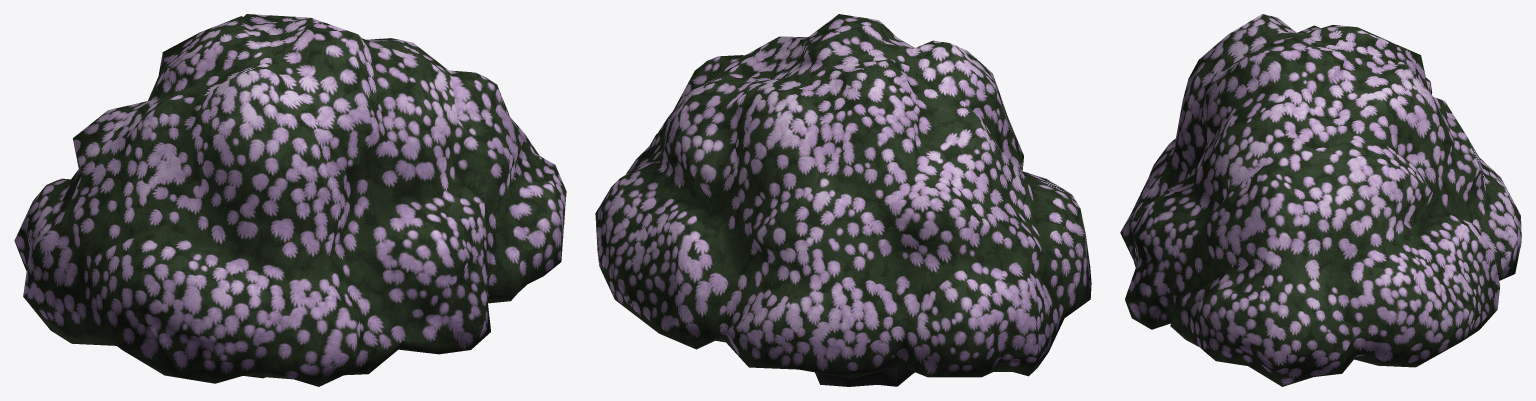
File: Tree-Bocote-purple-GB.fbx
3 views of the same model, side by side, from view 1: azimuth 30°, elevation 25°; view 2: azimuth 150°, elevation 25°; view 3: azimuth 270°, elevation 25° (orthographic). The views are drawn at different scales.
Parts seen in each view (by area): view 1: BocoteTree_Mesh; view 2: BocoteTree_Mesh; view 3: BocoteTree_Mesh.
Part boxes in pixels (bbox=[...]): BocoteTree_Mesh: bbox=[14, 14, 566, 386]; BocoteTree_Mesh: bbox=[595, 14, 1091, 386]; BocoteTree_Mesh: bbox=[1120, 14, 1521, 386].
Size of the model in its own units: 385 by 252 by 308.
1 material, 1 textured.
